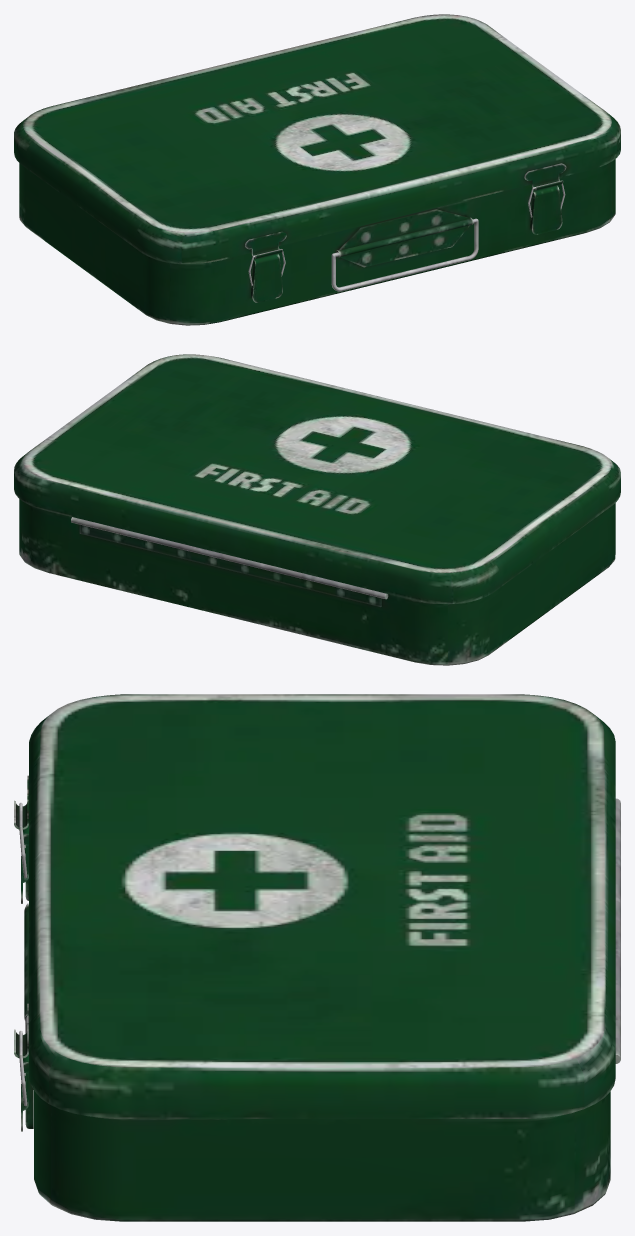
File: cassetta-medica.glb
3 views of the same model, one above another, from view 1: azimuth 30°, elevation 25°; view 2: azimuth 150°, elevation 25°; view 3: azimuth 270°, elevation 25° (orthographic). The views are drawn at different scales.
Parts seen in each view (by area): view 1: medical_box_lid, medical_box, medical_box_latch, medical_box_handle; view 2: medical_box_lid, medical_box; view 3: medical_box_lid, medical_box.
Part boxes in pixels (x1=…): medical_box_lid: x1=14, y1=14, x2=620, y2=263; medical_box: x1=19, y1=159, x2=615, y2=325; medical_box_latch: x1=251, y1=185, x2=562, y2=302; medical_box_handle: x1=331, y1=218, x2=478, y2=291; medical_box_lid: x1=14, y1=354, x2=620, y2=603; medical_box: x1=19, y1=499, x2=615, y2=665; medical_box_lid: x1=14, y1=694, x2=615, y2=1118; medical_box: x1=24, y1=798, x2=620, y2=1221.
Bounding box in the file's own units: 0.5255 × 0.0975 × 0.3502.
Materials: 1 (1 with a texture image).
